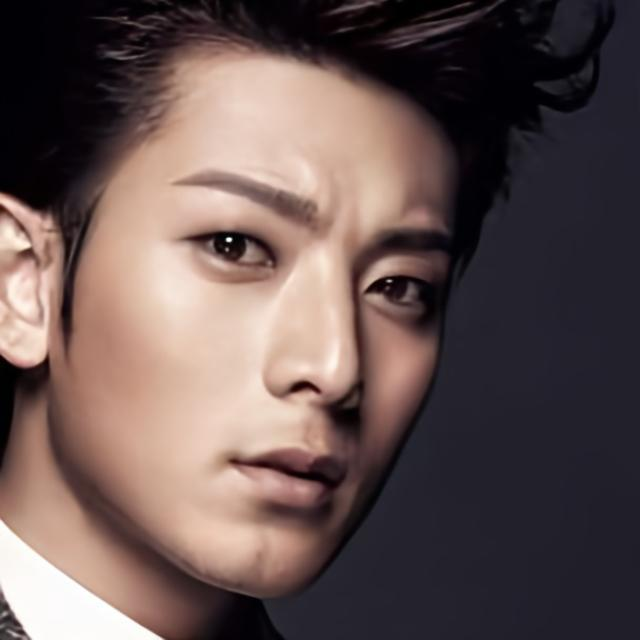anger: (64, 55, 453, 588)
